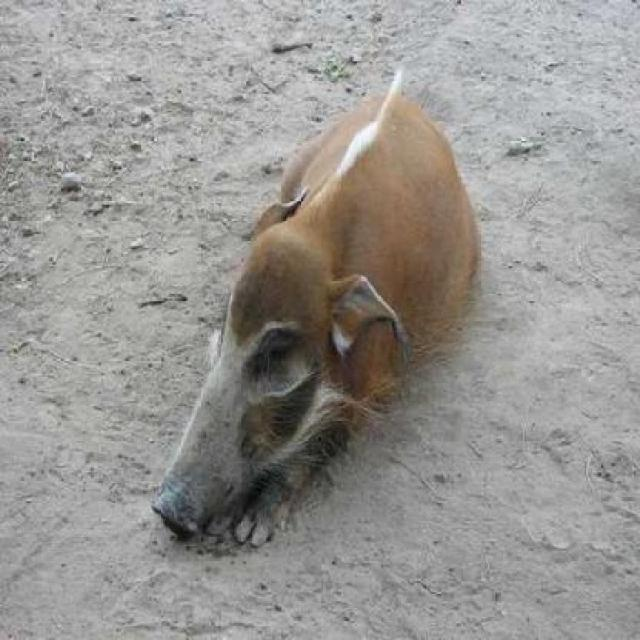pig: (132, 48, 546, 610)
